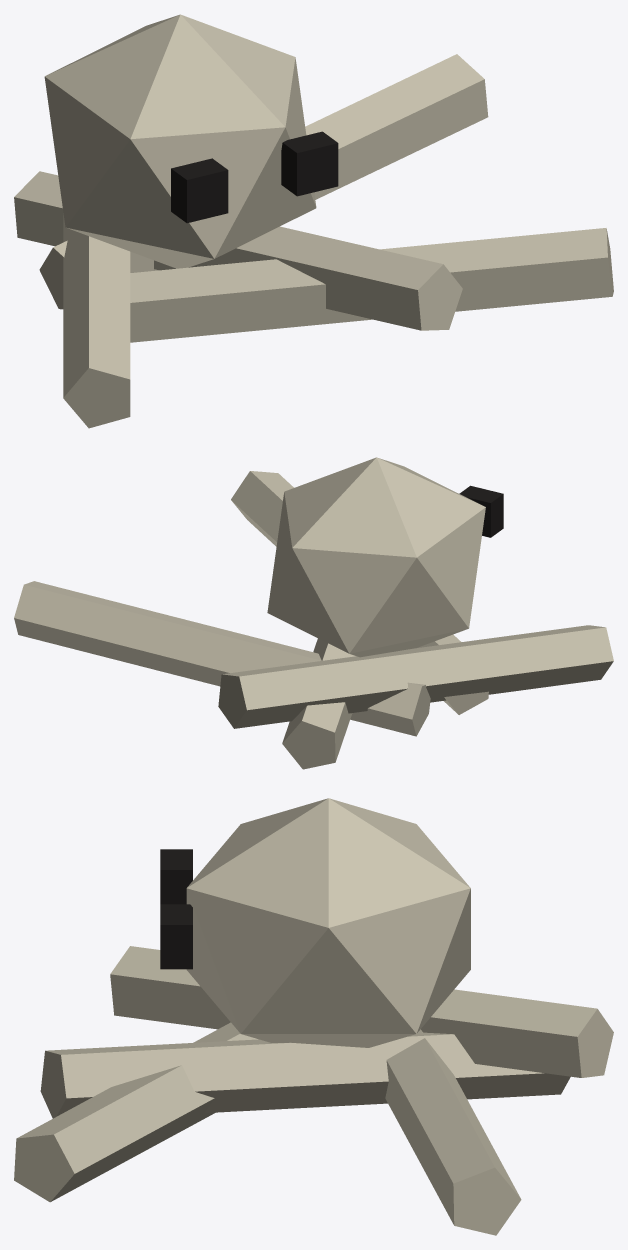
File: bone_pile.glb
3 renders of one model, top to bottom at view 1: azimuth 30°, elevation 25°; view 2: azimuth 150°, elevation 25°; view 3: azimuth 270°, elevation 25°, orthographic. The views are drawn at different scales.
Parts seen in each view (by area): view 1: bone_pile; view 2: bone_pile; view 3: bone_pile.
Boxes of the visible parts, bbox=[...] form: bone_pile: bbox=[14, 14, 613, 428]; bone_pile: bbox=[14, 457, 613, 769]; bone_pile: bbox=[14, 798, 613, 1235].
Bounding box in the file's own units: 0.6265 × 0.3122 × 0.5527.
